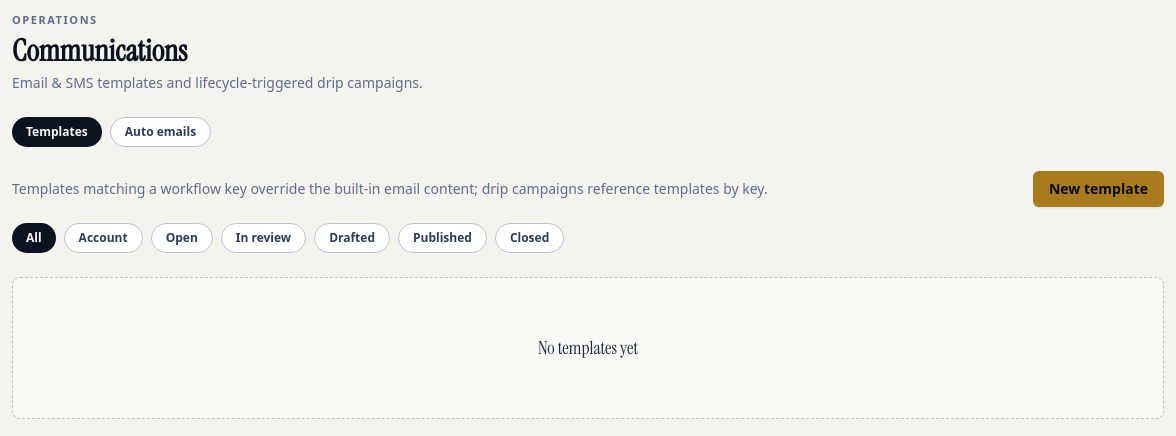
auto-email campaign conditions › names the gate in the campaign list instead of leaving it blank
Click the button "Auto emails" at (160, 132), box [110, 116, 211, 146]
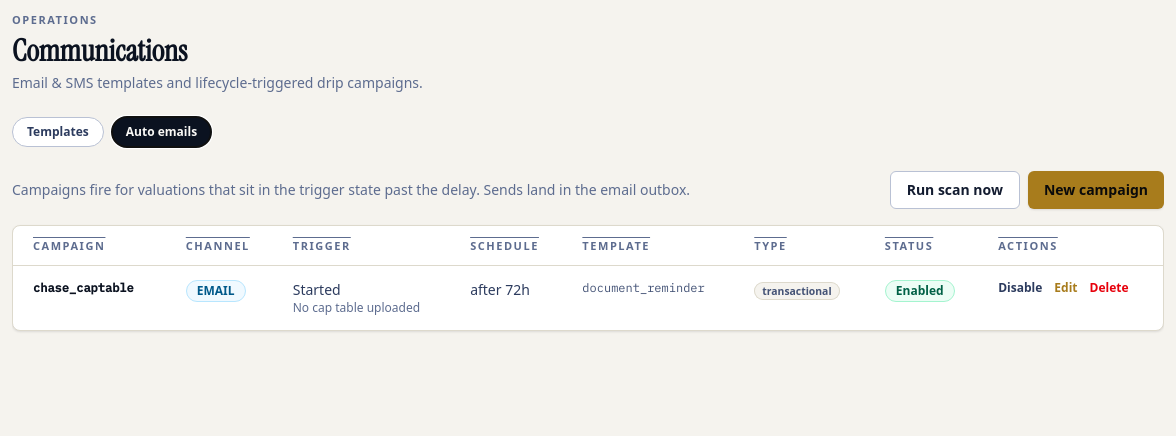
Expected: the text "No cap table uploaded" is shown, [293, 300, 438, 316]
